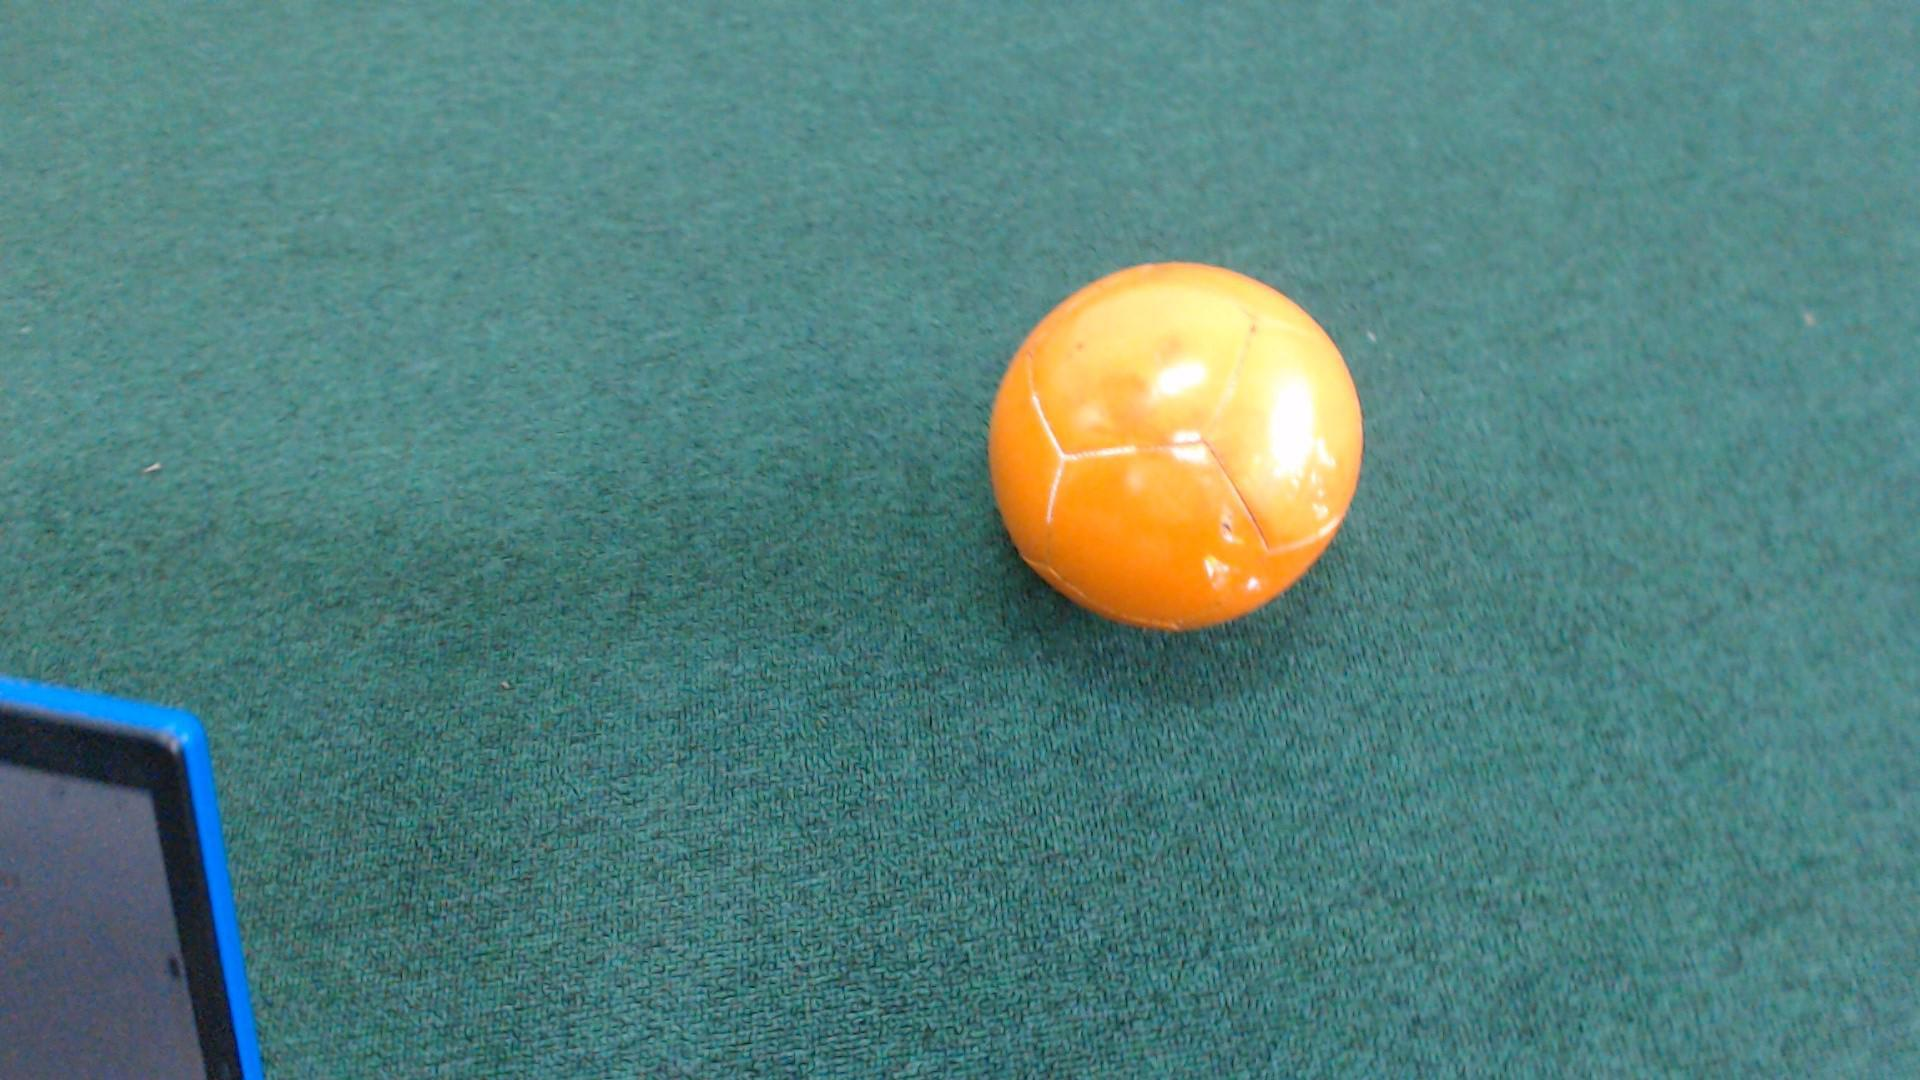bola: (956, 232, 1391, 673)
